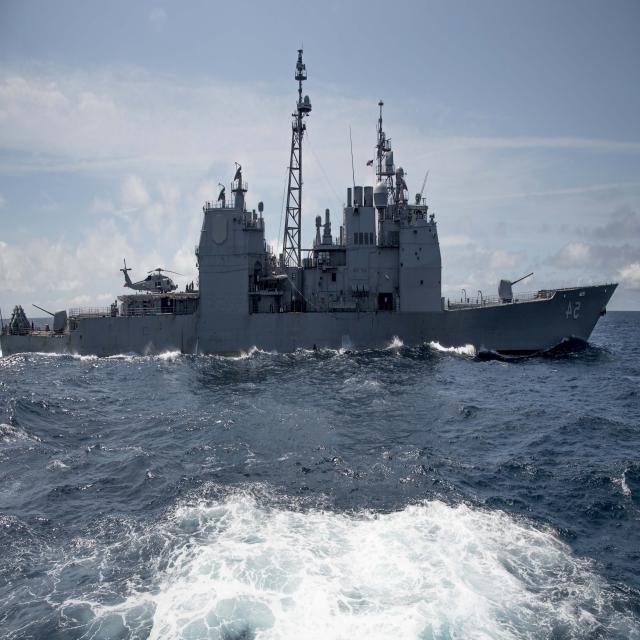navalvessels: (0, 40, 618, 377)
